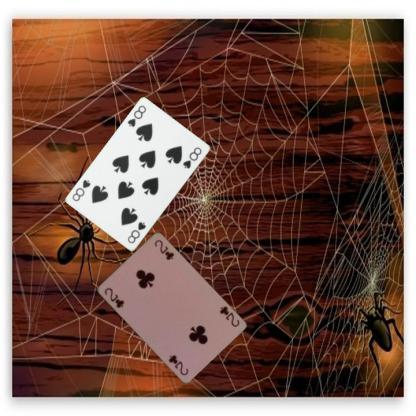2c: (102, 285, 126, 309), (217, 303, 240, 328)
8s: (125, 220, 147, 245), (125, 103, 147, 128)
